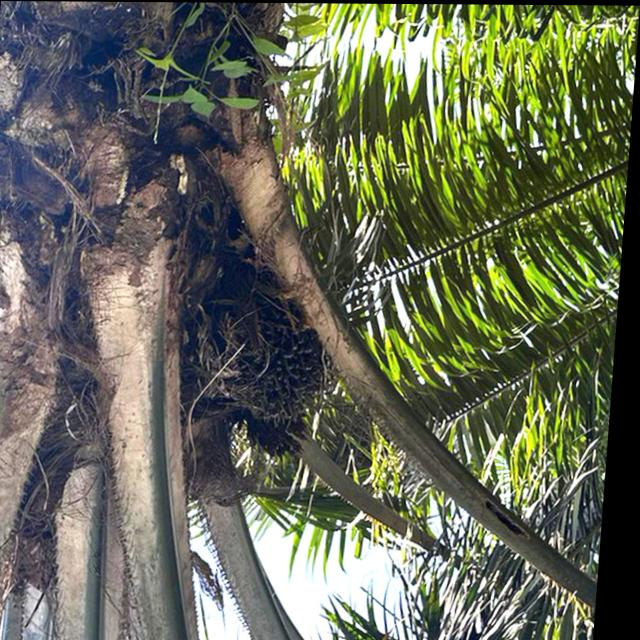ripe: (221, 298, 348, 431)
